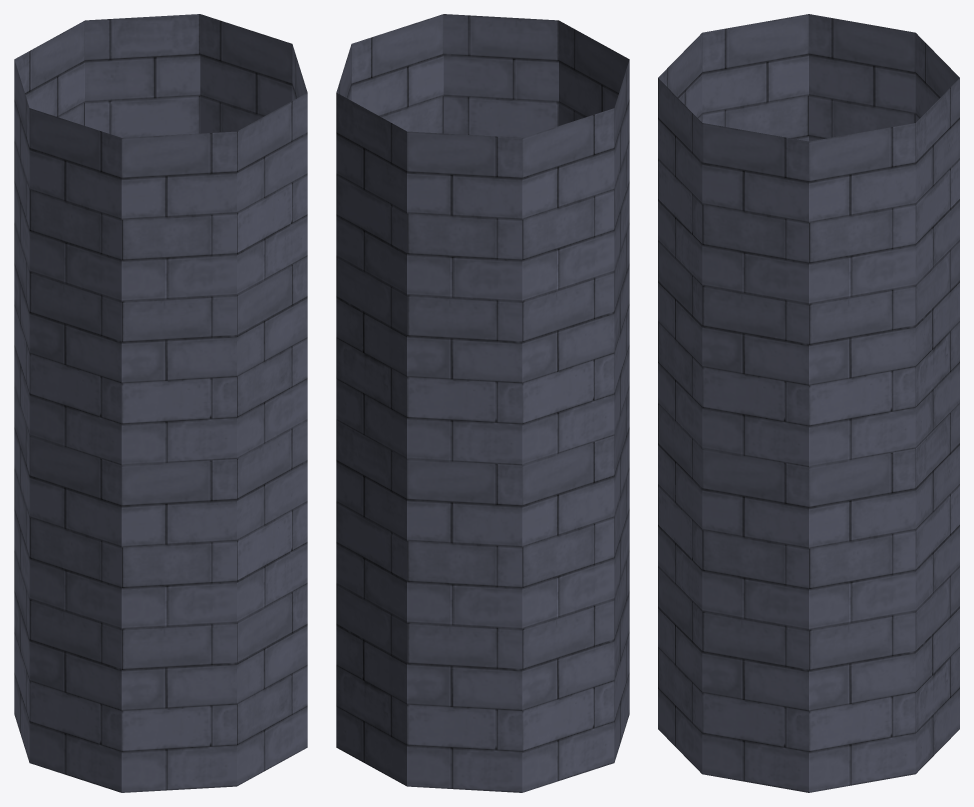
Rendered from pillar.dae.
The picture shows the model from 3 angles, left to right: view 1: azimuth 30°, elevation 25°; view 2: azimuth 150°, elevation 25°; view 3: azimuth 270°, elevation 25°; orthographic projection.
Visible parts, largest first — view 1: Cylinder; view 2: Cylinder; view 3: Cylinder.
Boxes of the visible parts, x1,y1,x2,y2 form: Cylinder: (14,14,307,792); Cylinder: (336,14,629,792); Cylinder: (658,14,959,792).
Size of the model in its own units: 8.4 by 8.4 by 20.
1 material, 1 textured.
